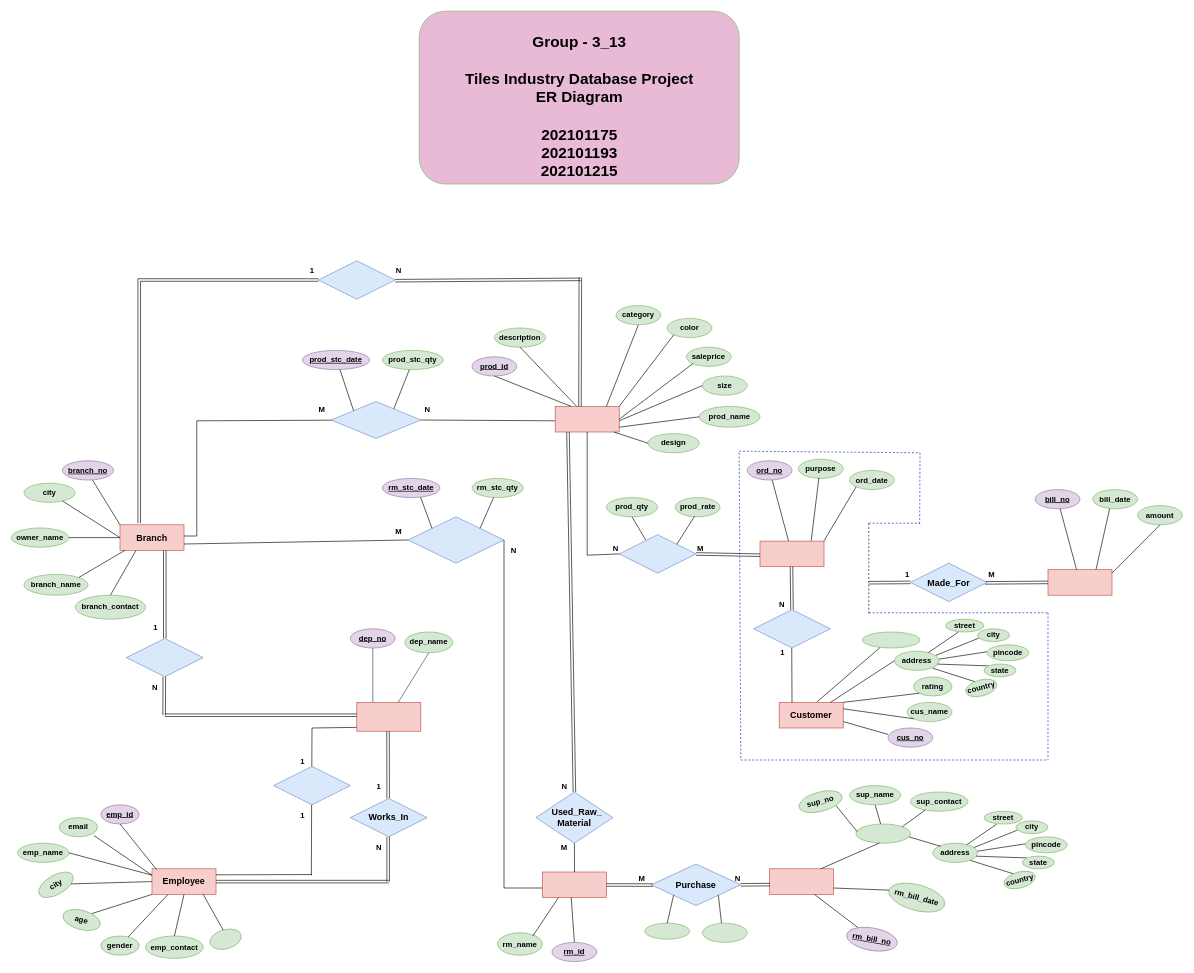
This 1194x973 diagram has some shape labels left out. The centre of each missing label's shape, as x and y in pixels:
Control_ Under: [164,657]
cus_contact: [891,639]
Department: [388,716]
Given_By: [791,628]
Having_ Prod_Stc: [376,419]
Having_ Raw_Mat_Stc: [455,539]
Manage_By: [311,785]
Order: [791,553]
Order_Bill: [1079,582]
Order_Detail: [657,553]
Producing: [356,279]
Product: [587,419]
Raw_Mat_Bill: [801,881]
Raw_Material: [574,884]
rm_qty: [667,931]
rm_rate: [724,932]
salary: [225,939]
supplier: [882,833]
